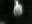person: (14, 1, 24, 17)
